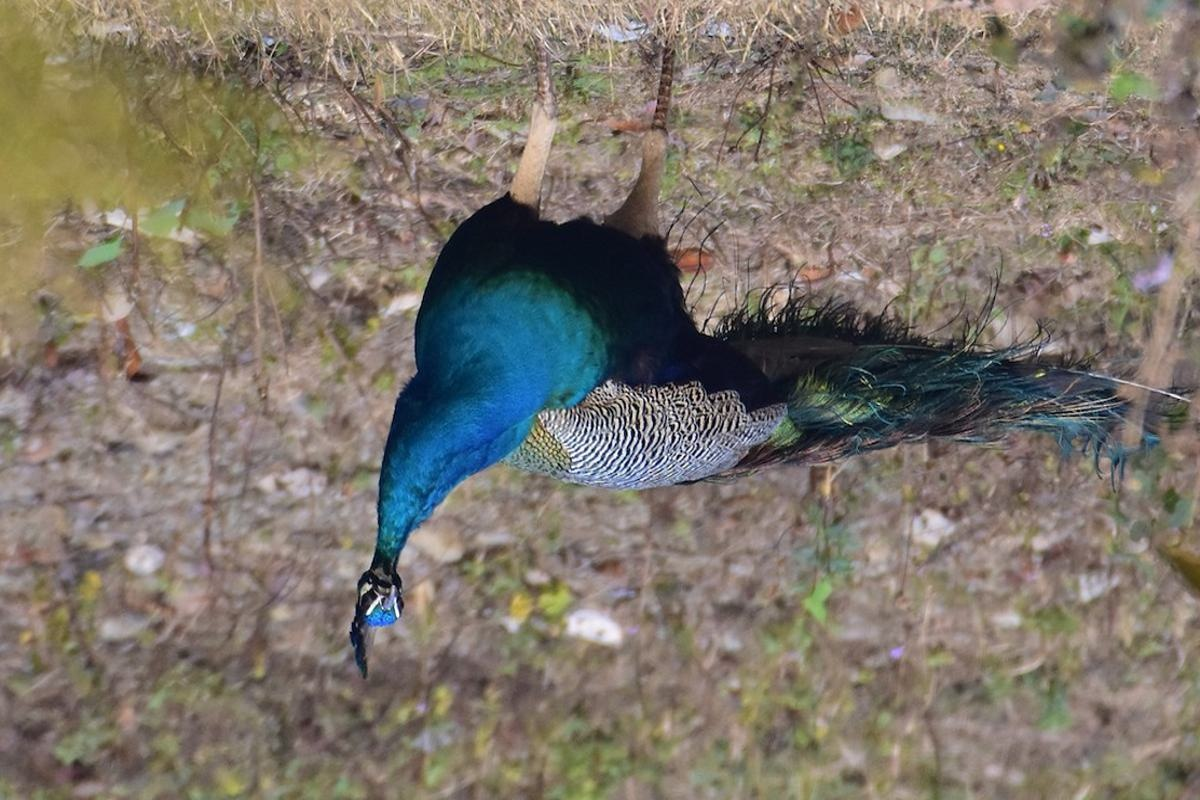peacock: (325, 143, 1105, 677)
